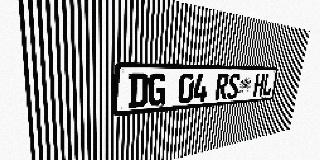0: (178, 73, 195, 104)
4: (193, 73, 209, 102)
D: (128, 73, 149, 108)
G: (148, 73, 167, 106)
H: (253, 73, 265, 97)
L: (262, 73, 274, 96)
R: (215, 73, 229, 100)
S: (227, 73, 241, 99)
